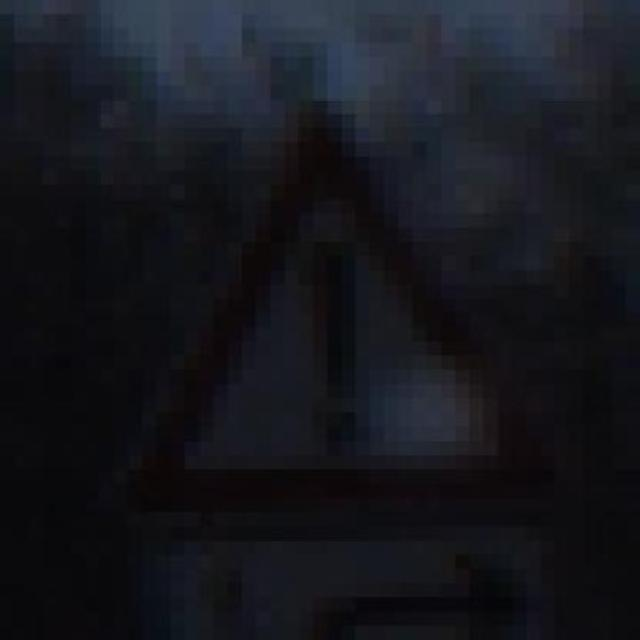Attention Please-: (114, 99, 569, 555)
